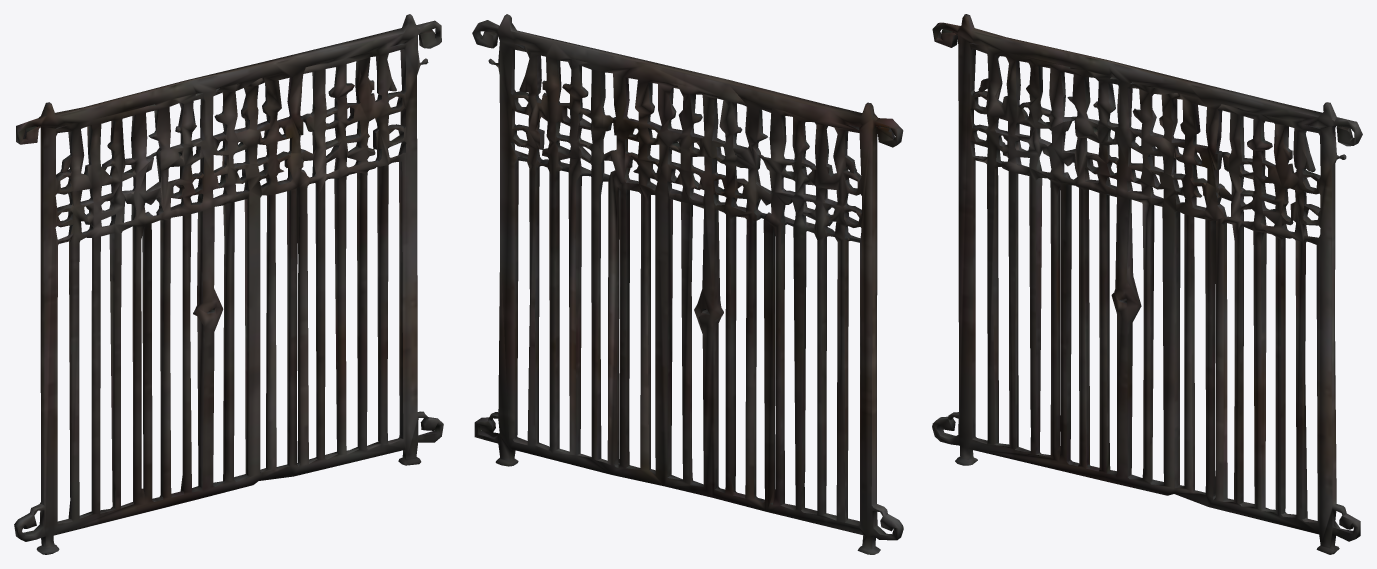
The model's file is old-iron-iron-gate-v004.glb.
3 views of the same model, side by side, from view 1: azimuth 30°, elevation 25°; view 2: azimuth 150°, elevation 25°; view 3: azimuth 330°, elevation 25° (orthographic).
Parts seen in each view (by area): view 1: old-iron-iron-gate; view 2: old-iron-iron-gate; view 3: old-iron-iron-gate.
Boxes of the visible parts, <box> form: old-iron-iron-gate: <box>14,14,443,554</box>; old-iron-iron-gate: <box>472,14,903,554</box>; old-iron-iron-gate: <box>932,14,1362,554</box>.
Bounding box in the file's own units: 2.26 × 2.26 × 0.0918.
Materials: 1 (1 with a texture image).
